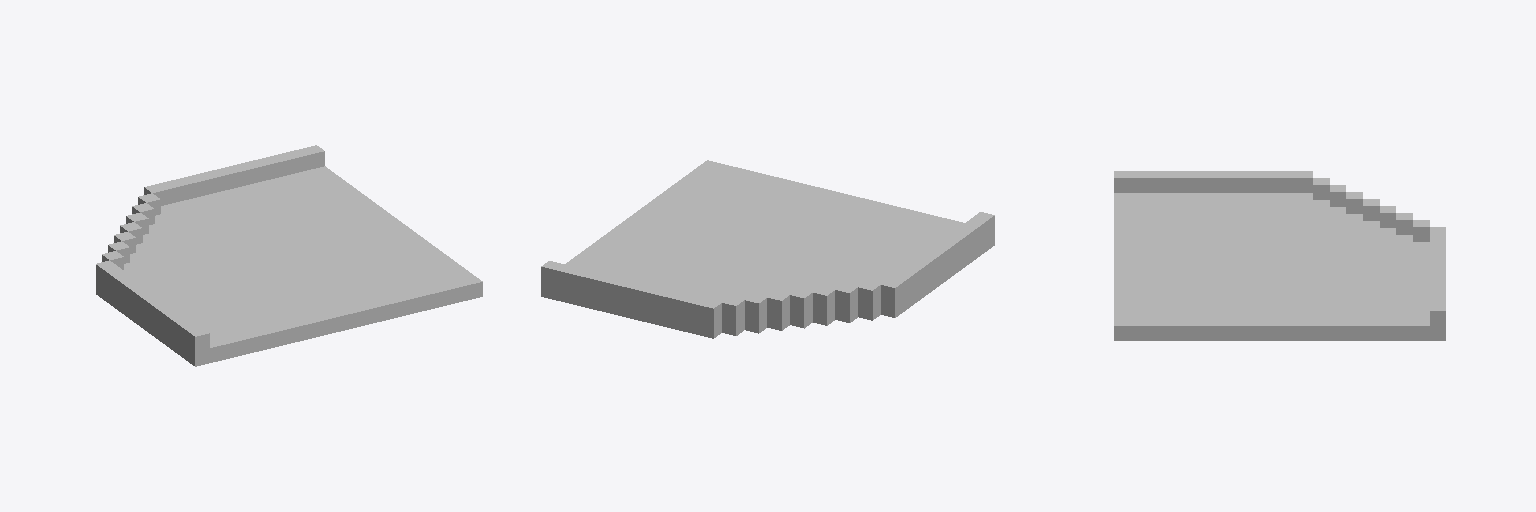
Rendered from road2 2.obj.
The picture shows the model from 3 angles: view 1: azimuth 30°, elevation 25°; view 2: azimuth 150°, elevation 25°; view 3: azimuth 270°, elevation 25°; orthographic projection.
Bounding box in the file's own units: 20 × 2 × 20.